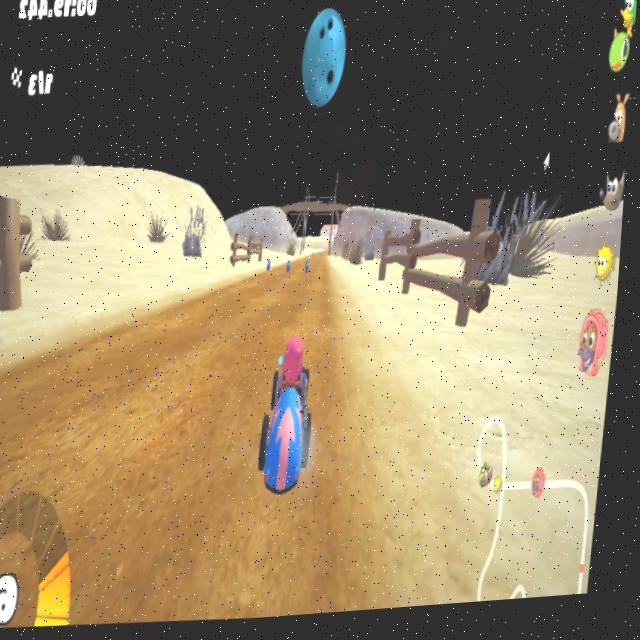enemy_kart: (256, 330, 333, 521)
nitro: (302, 258, 318, 280), (264, 263, 276, 280), (289, 258, 297, 279)
off_track: (349, 189, 579, 435), (0, 117, 232, 311)
